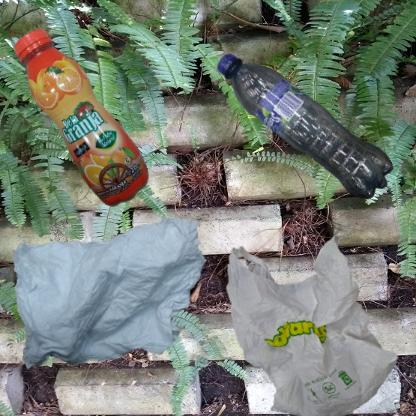bolsa: (213, 213, 416, 416)
botella: (213, 10, 416, 287), (10, 10, 183, 265)
papel: (10, 213, 216, 372)
